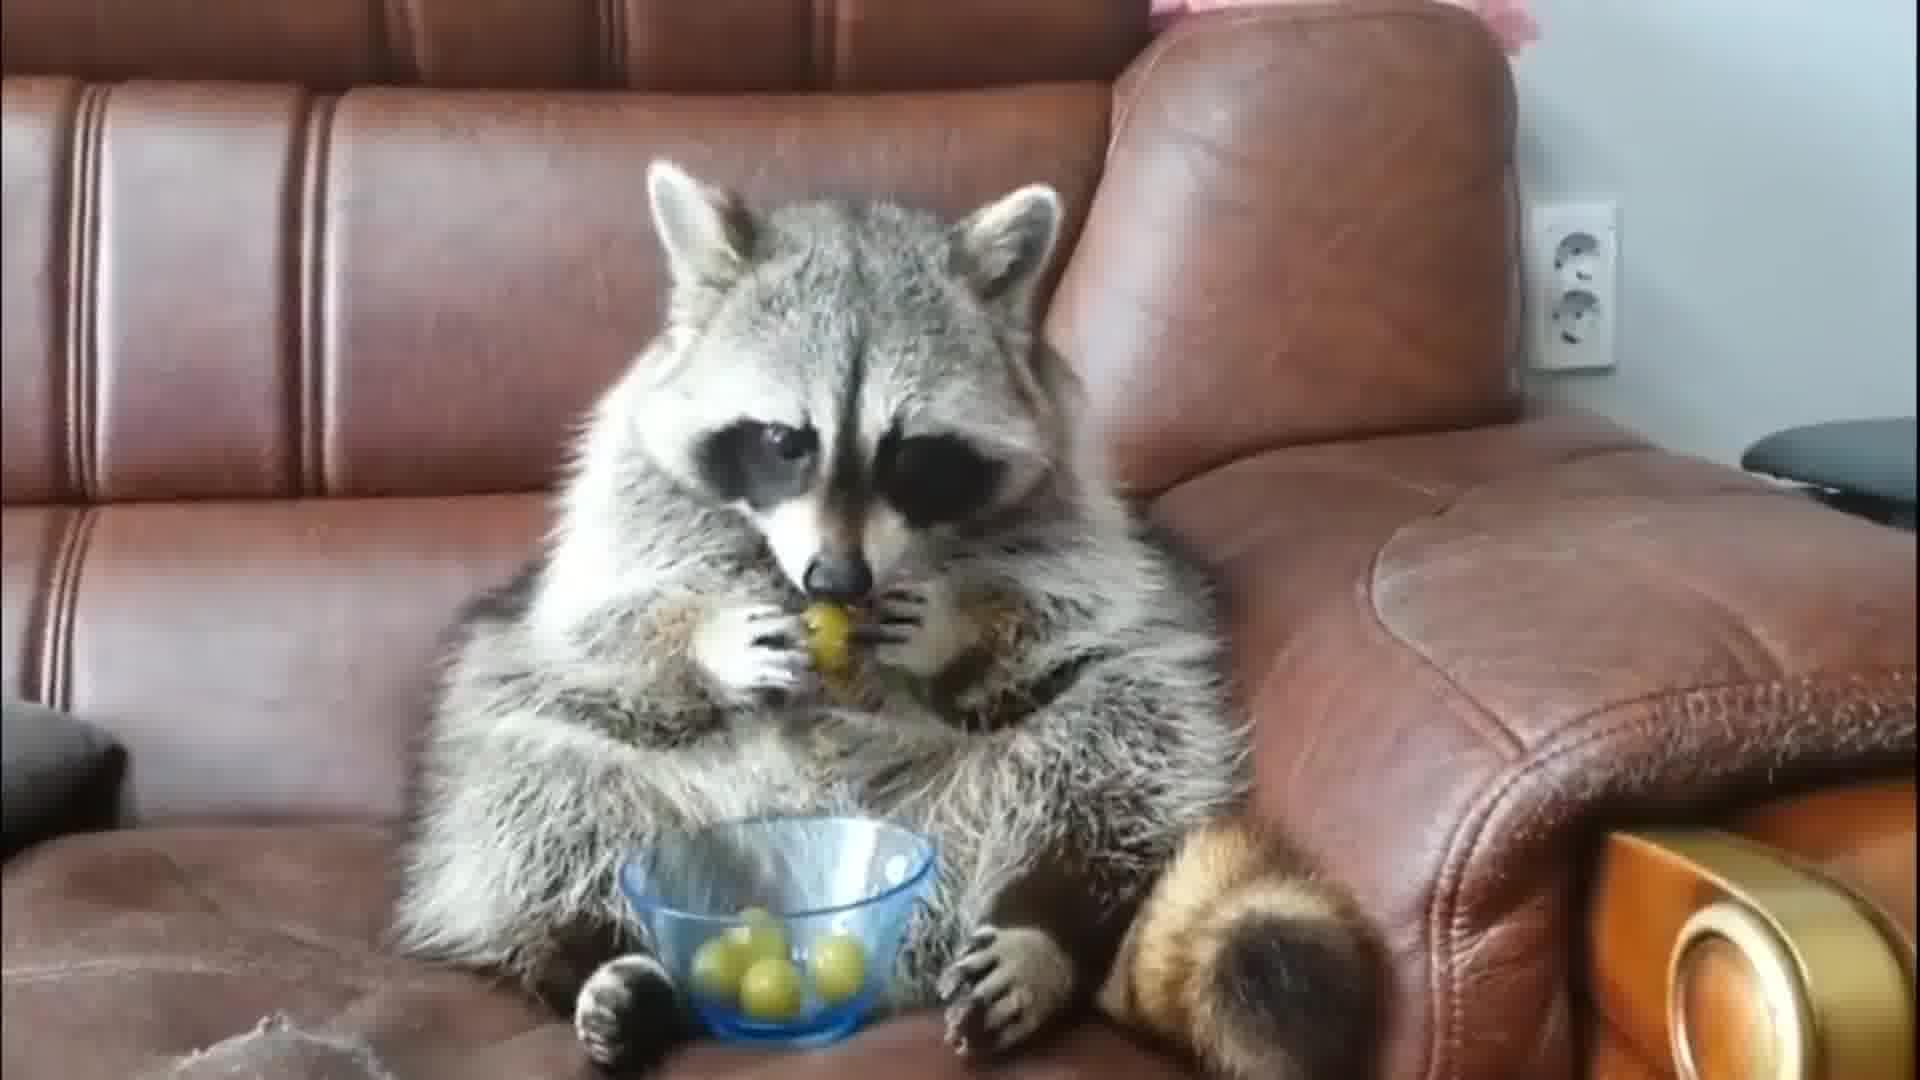raccoon: (386, 157, 1371, 1080)
